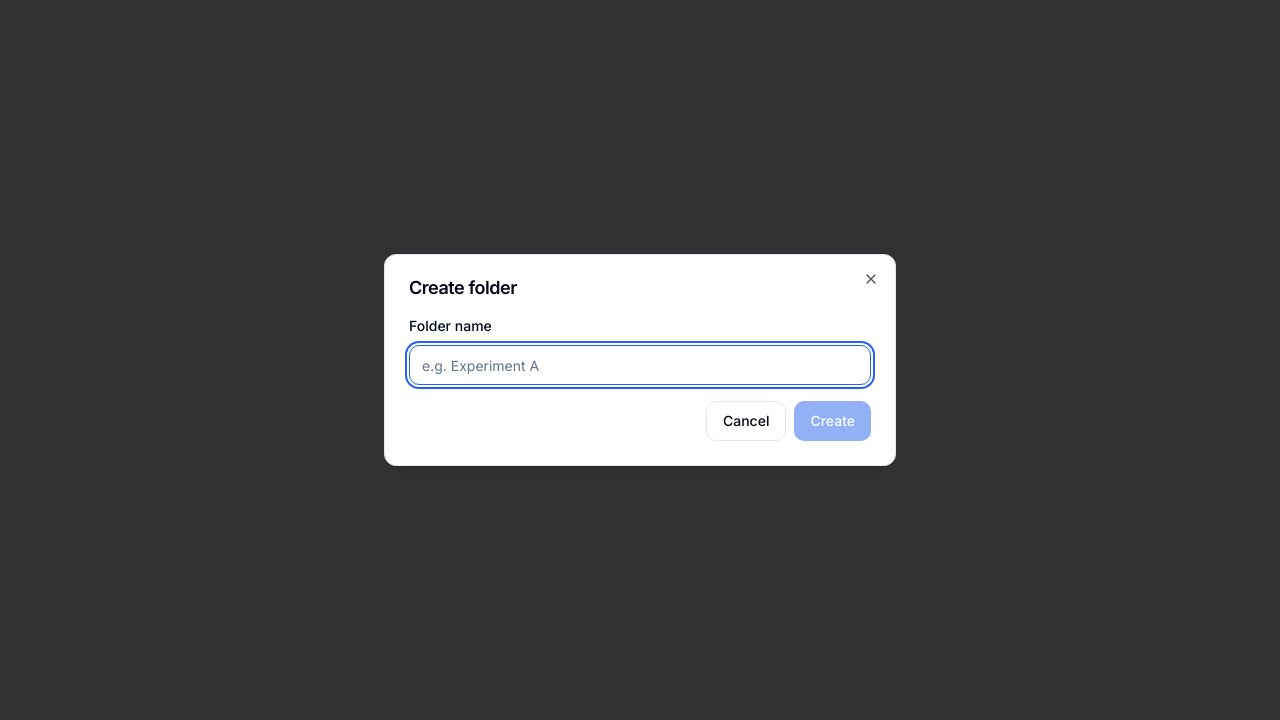
Test: CreateFolderDialog › Validation › Create button becomes enabled when a non-blank name is entered
Step 1. Type "New Folder" into the field → [640, 365], box [409, 345, 871, 385]
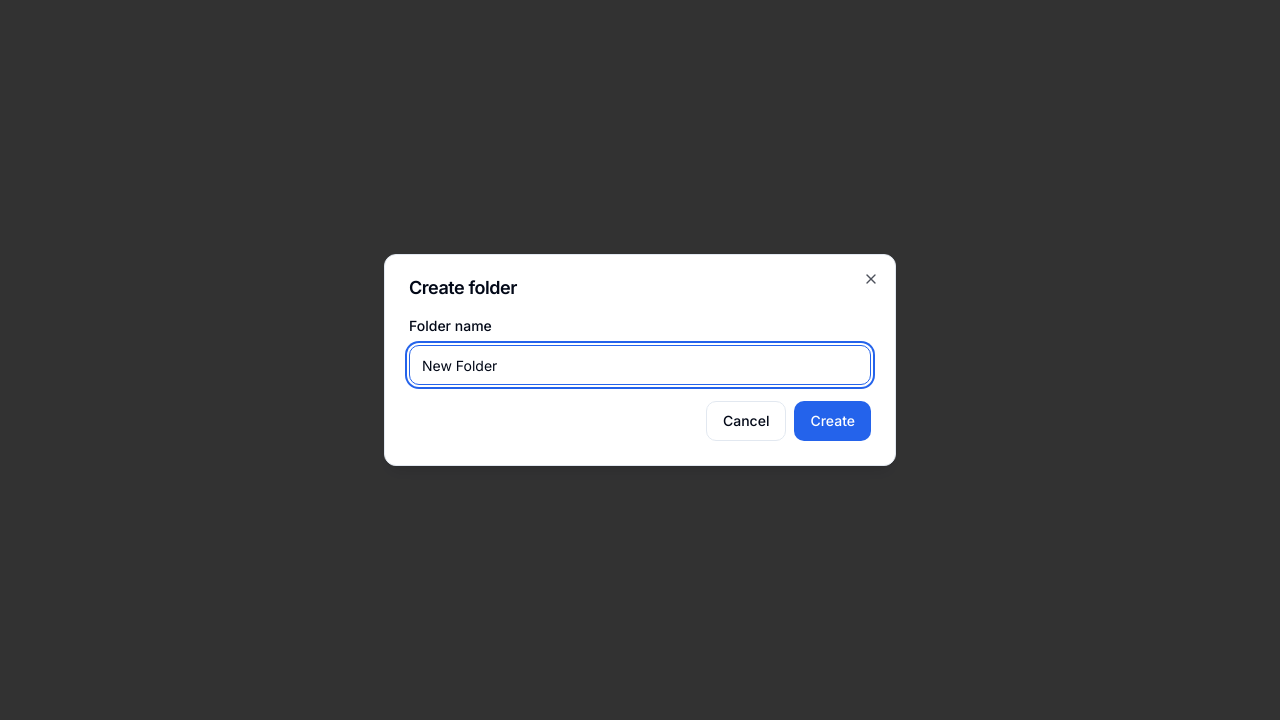
Expected: the button "Create" is enabled, [794, 401, 871, 441]
